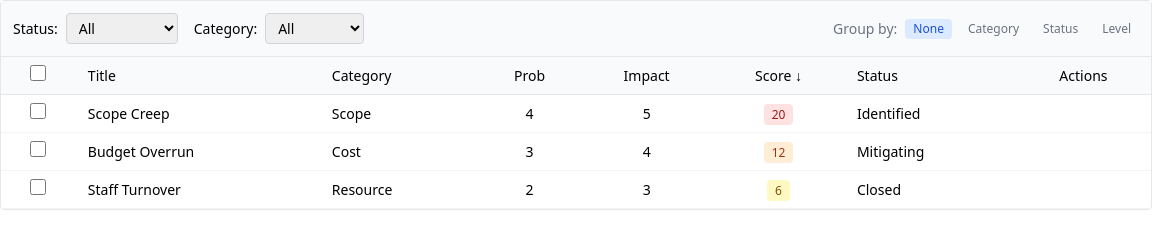
Scenario: RiskRegister › filters risks by status
Select "Closed" in the dropdown labelled "Status:" at (122, 28), box [66, 13, 178, 44]
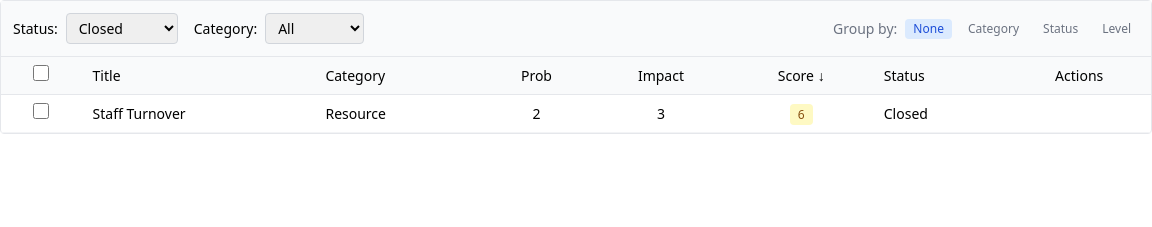
Check: the text "Staff Turnover" is shown, box [81, 94, 313, 132]
Check: the text "Scope Creep" is gone
